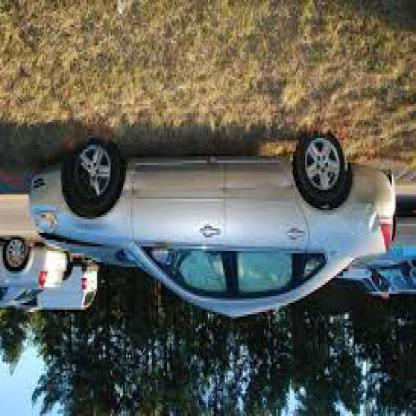dent: (365, 207, 383, 238), (128, 176, 144, 193), (280, 180, 292, 196)
